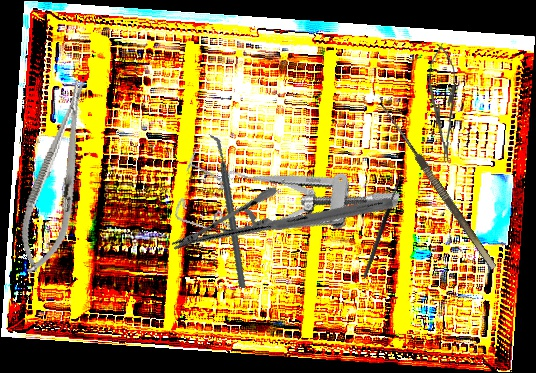Chopper: (174, 134, 281, 289)
Hook Surgical: (371, 101, 497, 277), (357, 170, 404, 279)
Needle Holder: (169, 115, 396, 333), (10, 74, 104, 281), (426, 42, 460, 165)
Speculum: (171, 128, 402, 282)
